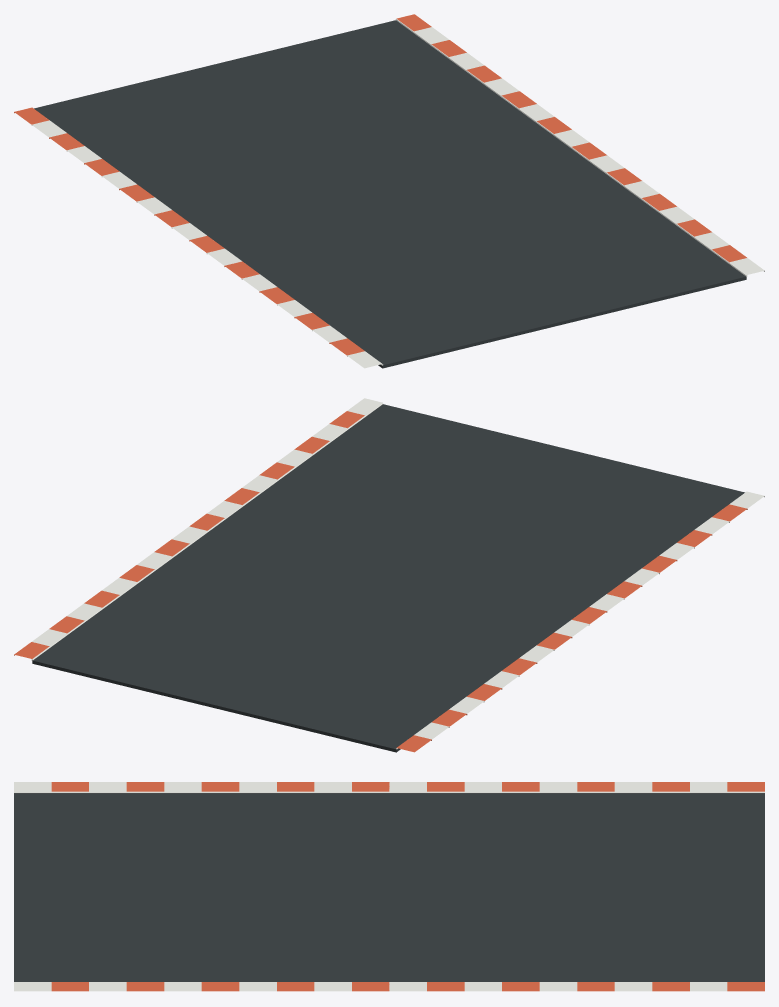
File: straight.glb
The picture shows the model from 3 angles, top to bottom: view 1: azimuth 30°, elevation 25°; view 2: azimuth 150°, elevation 25°; view 3: azimuth 270°, elevation 25°; orthographic projection. The views are drawn at different scales.
Parts seen in each view (by area): view 1: straight-20m; view 2: straight-20m; view 3: straight-20m.
Part boxes in pixels (x1,y1,x2,y2): straight-20m: (14,14,764,368); straight-20m: (14,398,764,752); straight-20m: (14,782,764,991).
Bounding box in the file's own units: 13.2 × 0.1446 × 20.
